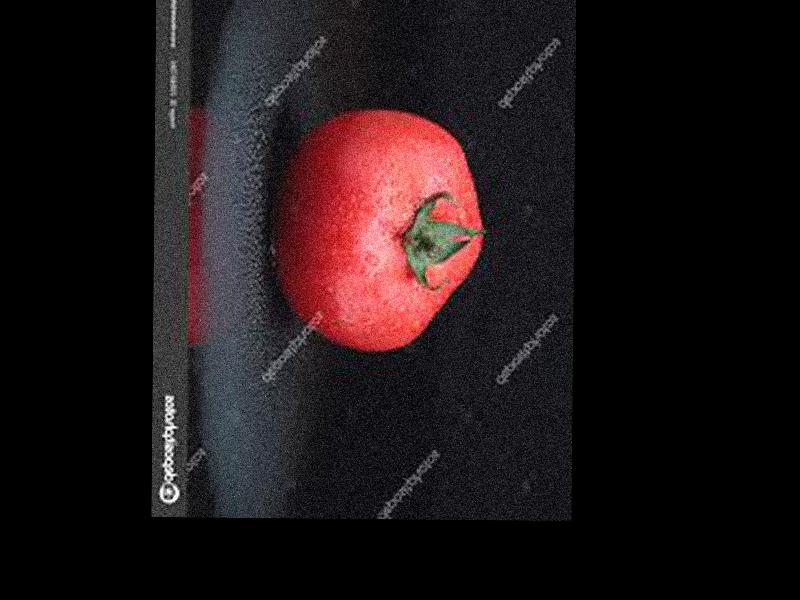Tomato: (273, 107, 486, 353)
